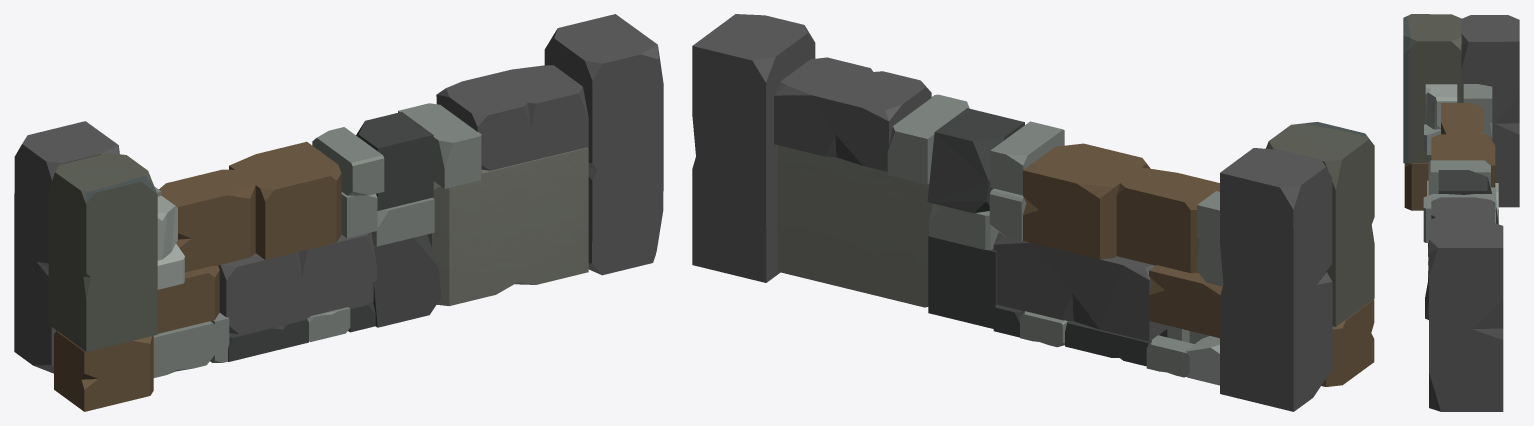
File: ZLP_Build_D_35.FBX
The picture shows the model from 3 angles, left to right: view 1: azimuth 30°, elevation 25°; view 2: azimuth 150°, elevation 25°; view 3: azimuth 270°, elevation 25°; orthographic projection. The views are drawn at different scales.
Visible parts, largest first — view 1: ZLP_Build_D_35; view 2: ZLP_Build_D_35; view 3: ZLP_Build_D_35.
Part boxes in pixels (left/top/right/bottom): ZLP_Build_D_35: left=14, top=14, right=663, bottom=411; ZLP_Build_D_35: left=692, top=14, right=1374, bottom=411; ZLP_Build_D_35: left=1403, top=14, right=1519, bottom=411.
Bounding box in the file's own units: 350 × 126 × 76.44.
